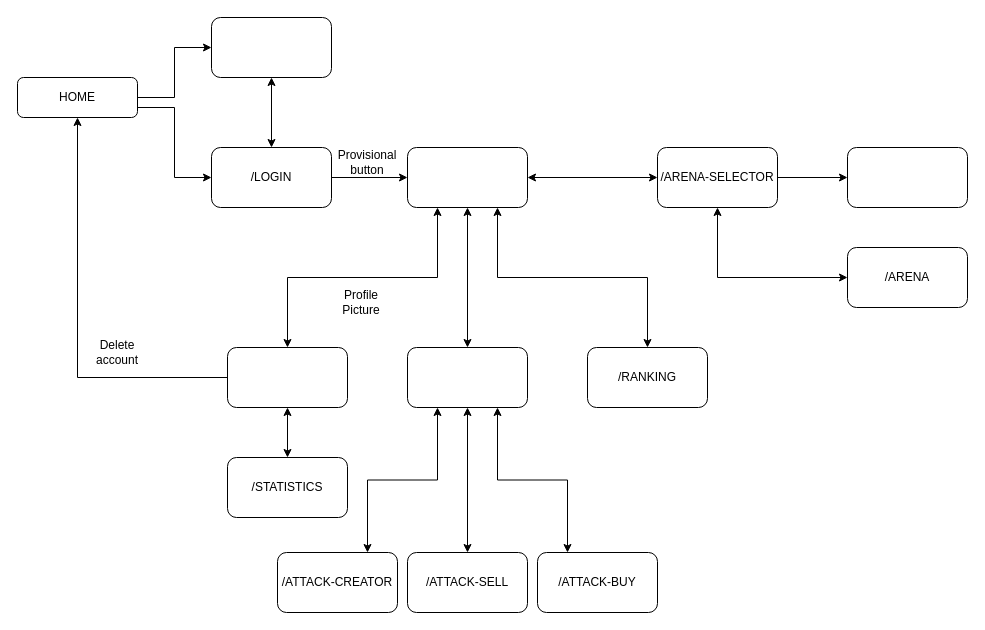
Image size: 985x630. Some labels were removed from this diagram. The shapes that lost their labels are listed below. From the top down, each one's box as (x1, y1, x2, y2) in pixels, then its label:
(210, 16, 332, 78): /SIGNUP
(406, 146, 528, 208): /MAIN-MENU
(846, 146, 968, 208): /ARENA-CREATOR
(226, 346, 348, 408): /PROFILE
(406, 346, 528, 408): /STORE
